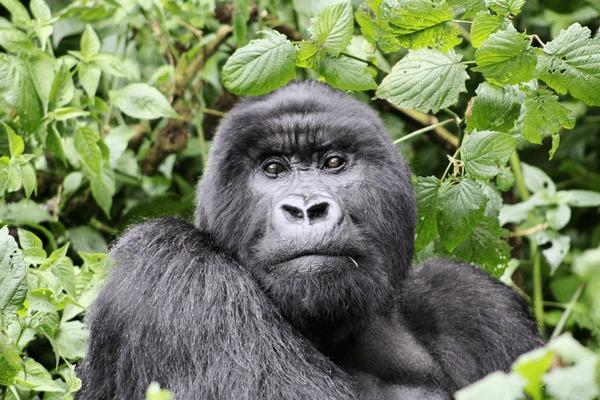goriile_montagne: (91, 87, 573, 400)
